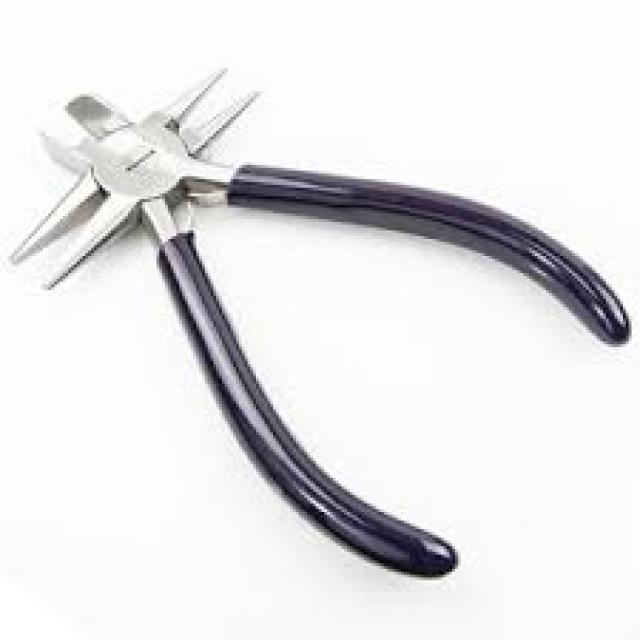pliers: (22, 90, 626, 579)
